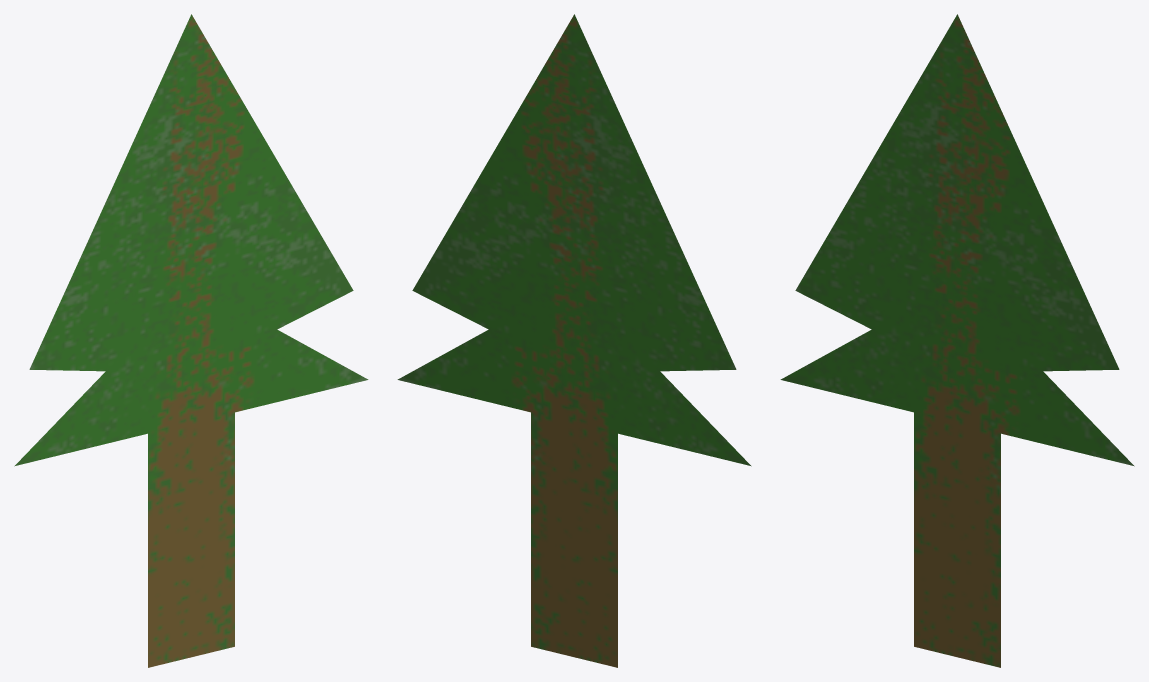
Rendered from SM_backgroundTree1.fbx.
3 views of the same model, side by side, from view 1: azimuth 30°, elevation 25°; view 2: azimuth 150°, elevation 25°; view 3: azimuth 330°, elevation 25° (orthographic).
Parts seen in each view (by area): view 1: pPlane65; view 2: pPlane65; view 3: pPlane65.
Part boxes in pixels (bbox=[...]): pPlane65: bbox=[14, 14, 368, 667]; pPlane65: bbox=[397, 14, 751, 667]; pPlane65: bbox=[780, 14, 1134, 667].
Bounding box in the file's own units: 17.95 × 31.14 × 1.91e-15.
